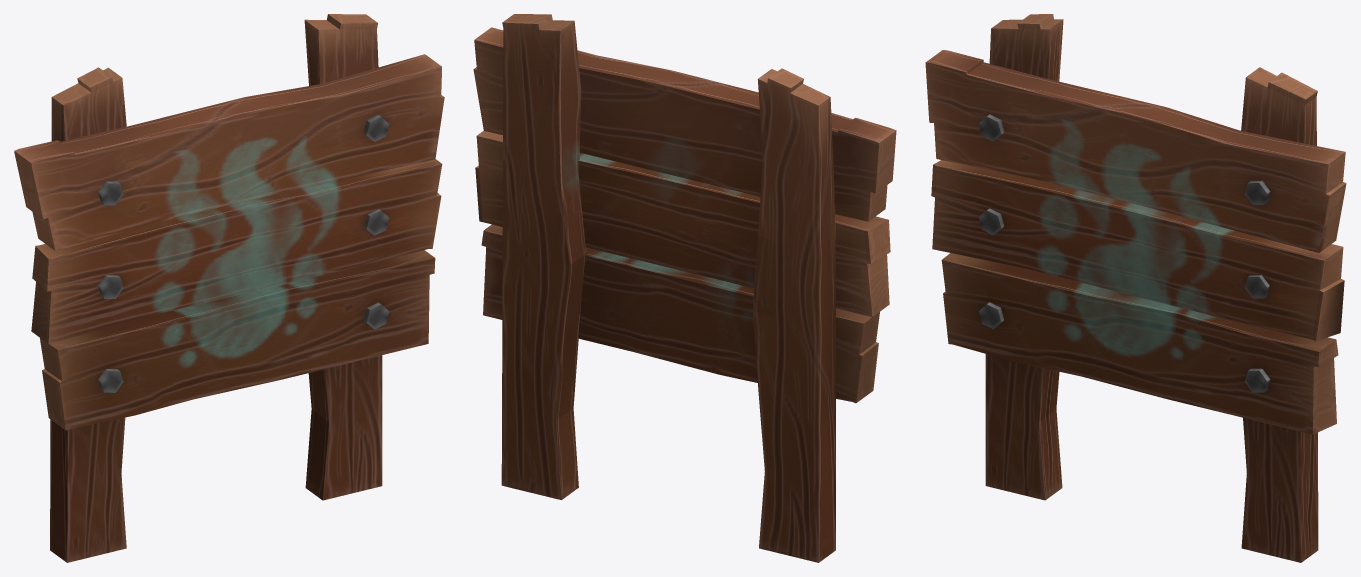
File: Wooden sign render.fbx
3 views of the same model, side by side, from view 1: azimuth 30°, elevation 25°; view 2: azimuth 150°, elevation 25°; view 3: azimuth 330°, elevation 25° (orthographic).
Parts seen in each view (by area): view 1: Signup_lp, Signmid_lp, Signdown_lp, Pillar_lp, Bolt_lp; view 2: Pillar_lp, Signup_lp, Signmid_lp, Signdown_lp; view 3: Signup_lp, Signmid_lp, Signdown_lp, Pillar_lp, Bolt_lp.
Part boxes in pixels (x1=…): Signup_lp: x1=14, y1=54, x2=444, y2=250; Signmid_lp: x1=31, y1=159, x2=442, y2=343; Signdown_lp: x1=40, y1=250, x2=435, y2=430; Pillar_lp: x1=50, y1=14, x2=382, y2=562; Bolt_lp: x1=98, y1=115, x2=389, y2=392; Pillar_lp: x1=501, y1=14, x2=835, y2=562; Signup_lp: x1=473, y1=27, x2=896, y2=221; Signmid_lp: x1=475, y1=130, x2=890, y2=316; Signdown_lp: x1=481, y1=224, x2=879, y2=403; Signup_lp: x1=925, y1=50, x2=1346, y2=252; Signmid_lp: x1=931, y1=160, x2=1344, y2=341; Signdown_lp: x1=941, y1=253, x2=1338, y2=434; Pillar_lp: x1=985, y1=14, x2=1318, y2=562; Bolt_lp: x1=978, y1=114, x2=1270, y2=392.
Bounding box in the file's own units: 137 × 151 × 22.46.
